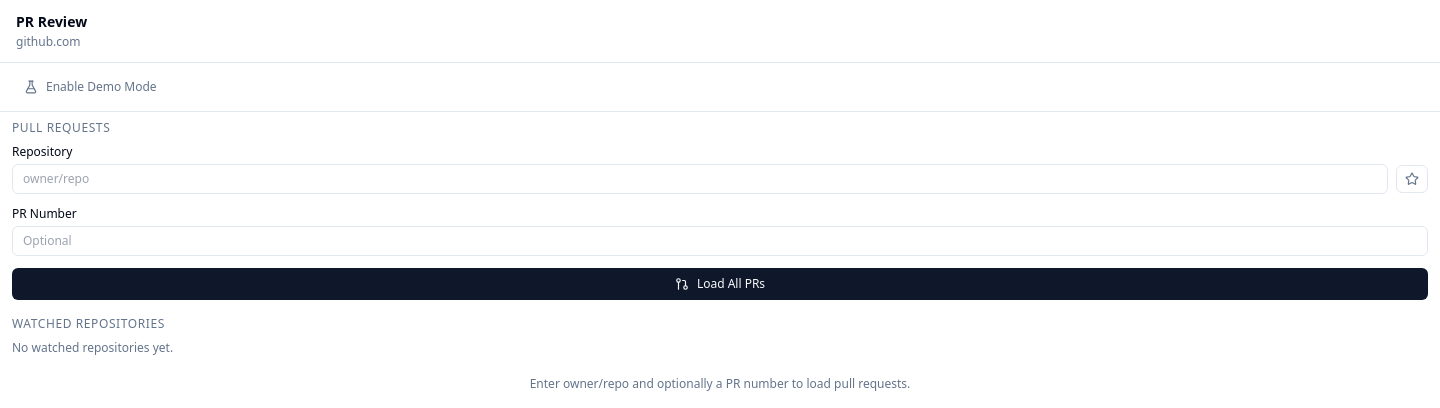
it: Sidebar repository list flow › changes load button text based on PR number input
This screenshot has width=1440, height=408.
expect the text "Load All PRs" is shown: met, box [697,276,765,292]
Type "42" into the number field labelled "PR Number" at (720, 241), box [12,226,1428,256]
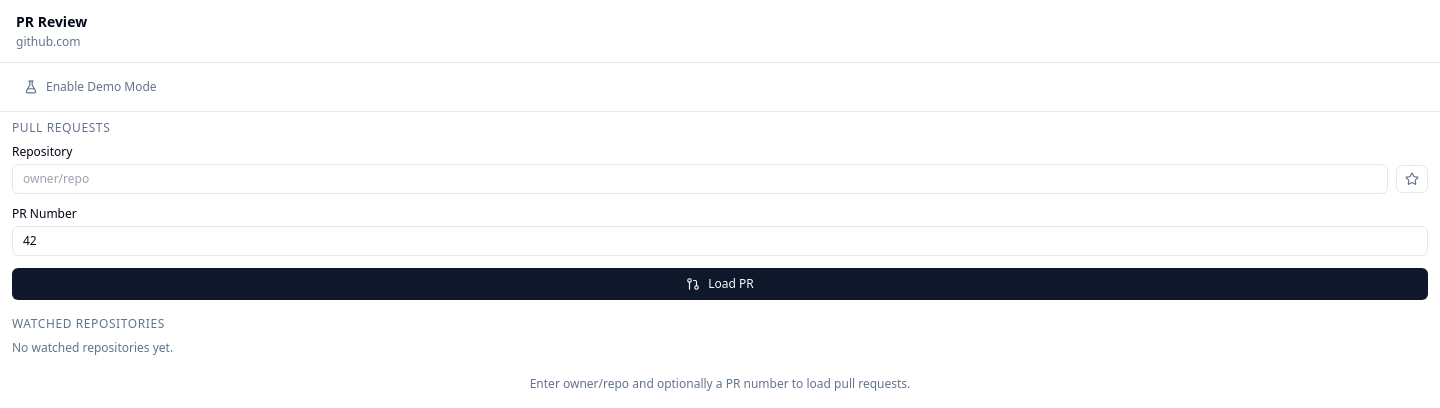
expect the text "Load PR" is shown: met, box [708,276,754,292]
